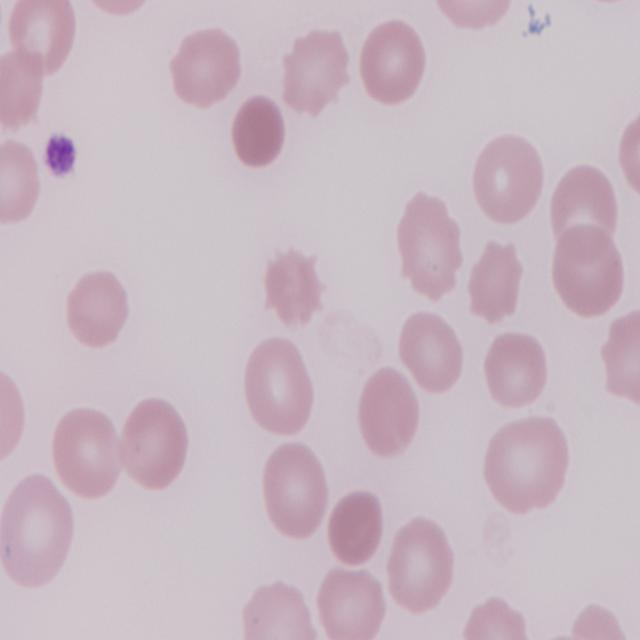RBC: (483, 414, 572, 518), (0, 471, 76, 592), (241, 334, 317, 439), (394, 190, 464, 304), (468, 129, 545, 231), (384, 516, 459, 620), (549, 223, 626, 322), (258, 438, 331, 542), (51, 402, 128, 499), (116, 396, 191, 494), (546, 160, 624, 254), (170, 22, 246, 108), (354, 362, 421, 459), (396, 306, 464, 398), (358, 16, 428, 104), (281, 28, 350, 116), (481, 326, 550, 411), (317, 558, 387, 639), (466, 234, 526, 328), (66, 265, 132, 347), (238, 577, 317, 640), (0, 136, 43, 230), (601, 310, 640, 407), (0, 359, 30, 472), (459, 597, 536, 640), (428, 0, 522, 34)
Spherocyte: (328, 487, 387, 569), (230, 92, 288, 172)
